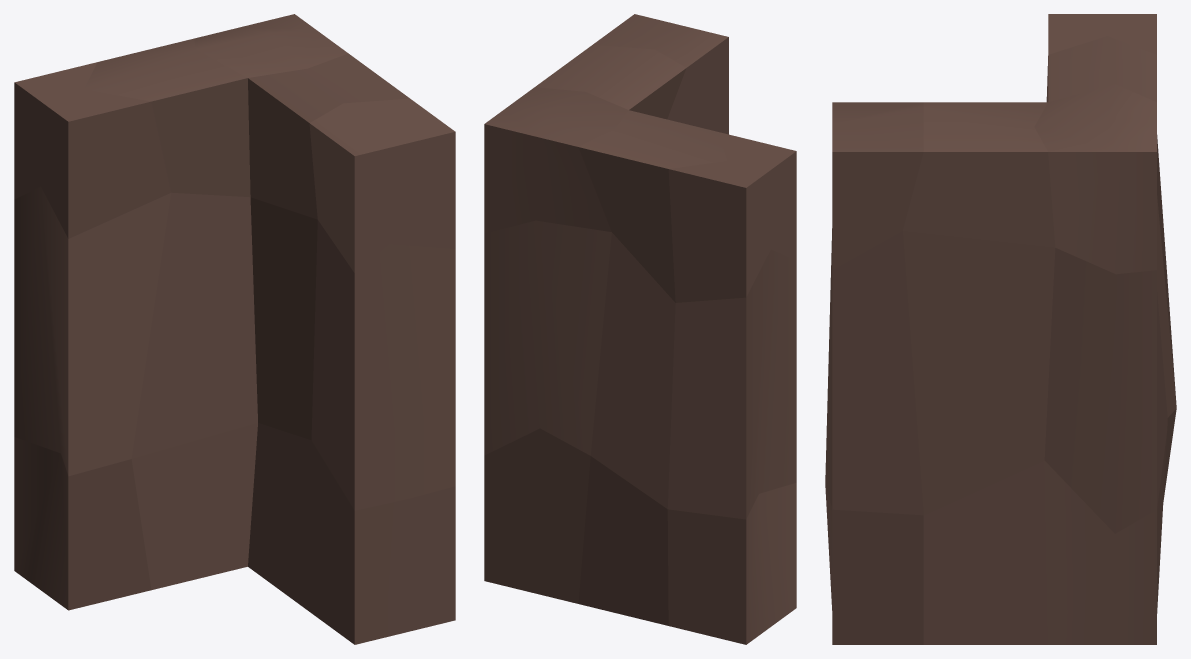
The model's file is Cave_Corner_Middle_Low.fbx.
3 views of the same model, side by side, from view 1: azimuth 30°, elevation 25°; view 2: azimuth 150°, elevation 25°; view 3: azimuth 270°, elevation 25° (orthographic). The views are drawn at different scales.
Parts seen in each view (by area): view 1: Cave_Corner_Middle_Low; view 2: Cave_Corner_Middle_Low; view 3: Cave_Corner_Middle_Low.
Part boxes in pixels (<box>): Cave_Corner_Middle_Low: <box>14,14,455,644</box>; Cave_Corner_Middle_Low: <box>484,14,796,644</box>; Cave_Corner_Middle_Low: <box>825,14,1176,644</box>.
Bounding box in the file's own units: 3.12 × 3.23 × 5.12.
